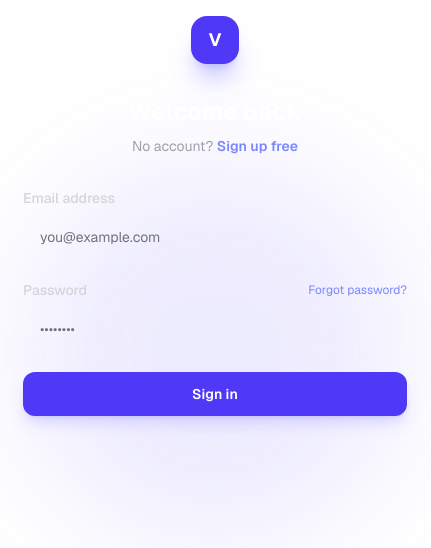
Test: shows error message on invalid credentials
Type "wrong@example.com" into the field labelled "Email address". click: (215, 237)
box: [23,214,407,260]
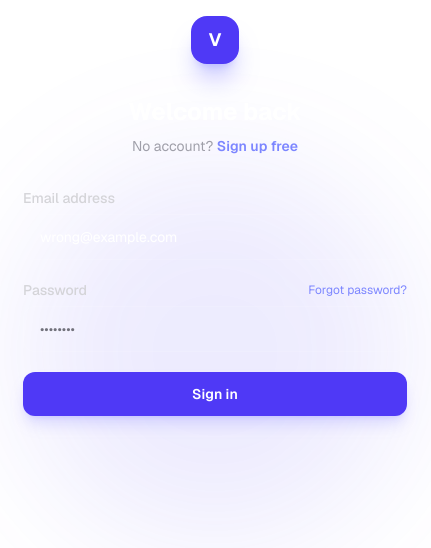
Type "wrongpass" into the password field labelled "Password". click: (215, 329)
box: [23,306,407,352]
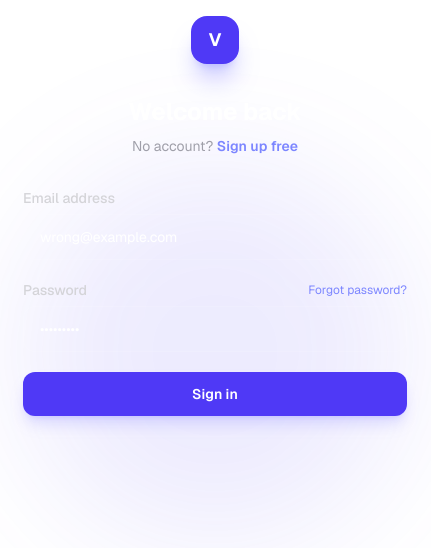
Click the button "Sign in". click: (215, 394)
box: [23,372,407,416]
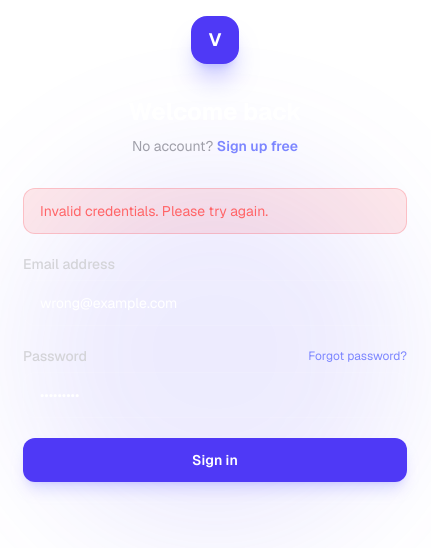
Expected: the message reads "Invalid credentials. Please try again.", [40,202,268,220]
